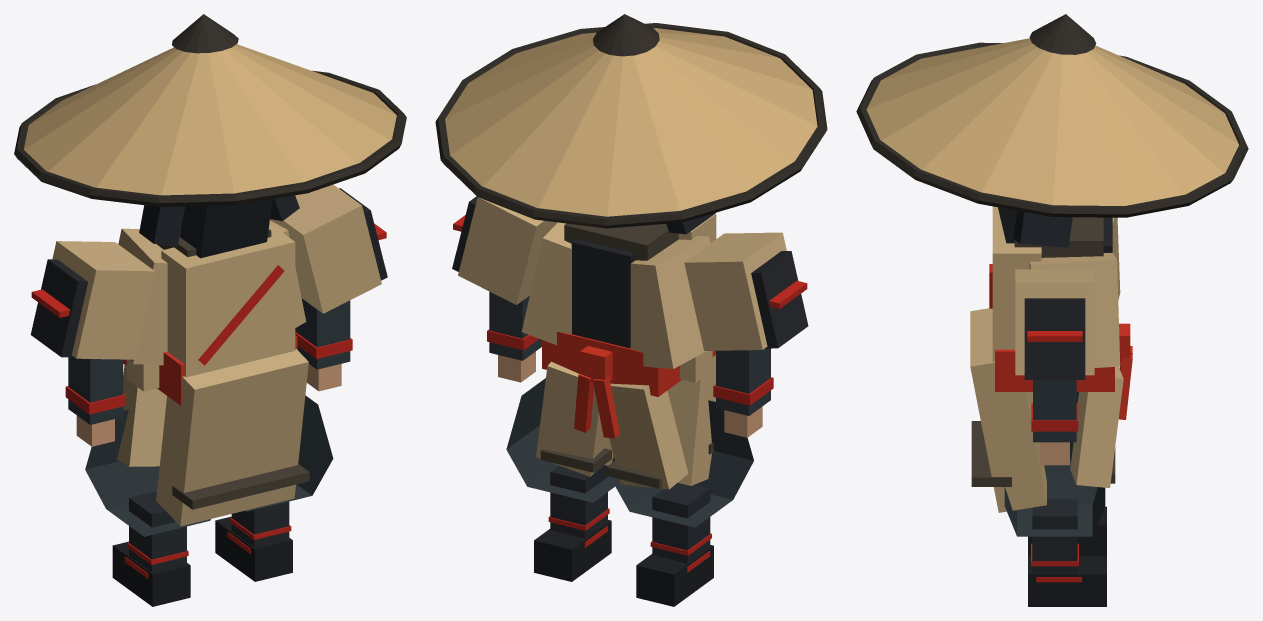
File: chibi_samurai.glb
3 renders of one model, left to right at view 1: azimuth 30°, elevation 25°; view 2: azimuth 150°, elevation 25°; view 3: azimuth 270°, elevation 25°, orthographic.
Parts seen in each view (by area): view 1: Kasa_Hat, Haori_Skirt_Back, Haori_Back, Sleeve_L, Sleeve_R, Hat_Rim_Ring, Hakama_R, HairBack, Haori_Lapel_R, Sode_Armor_R, Haori_Skirt_Front_R, Shin_R (+19 smaller); view 2: Kasa_Hat, Hat_Rim_Ring, Sleeve_R, Haori_Lapel_R, Sleeve_L, Haori_Skirt_Front_R, Chest_Dou, Hakama_R, Haori_Lapel_L, Haori_Skirt_Front_L, Haori_Skirt_Back, Hakama_L (+23 smaller); view 3: Kasa_Hat, Haori_Skirt_Back, Hat_Rim_Ring, Sode_Armor_L, Haori_Skirt_Front_L, Sleeve_L, Haori_Lapel_L, Haori_Back, Hakama_L, Boot_L, Shin_L, Kote_L (+10 smaller).
Part boxes in pixels (x1,y1,x2,y2): Kasa_Hat: [24, 44, 396, 195]; Haori_Skirt_Back: [156, 349, 308, 526]; Haori_Back: [161, 224, 295, 377]; Sleeve_L: [270, 184, 381, 313]; Sleeve_R: [52, 241, 154, 359]; Hat_Rim_Ring: [14, 70, 406, 206]; Hakama_R: [85, 409, 210, 536]; HairBack: [180, 199, 272, 258]; Haori_Lapel_R: [118, 228, 167, 365]; Sode_Armor_R: [30, 259, 87, 357]; Haori_Skirt_Front_R: [117, 365, 166, 466]; Shin_R: [129, 491, 186, 572]; Kasa_Hat: [445, 28, 817, 216]; Hat_Rim_Ring: [435, 23, 827, 228]; Sleeve_R: [684, 232, 786, 350]; Haori_Lapel_R: [630, 235, 710, 368]; Sleeve_L: [458, 197, 557, 304]; Haori_Skirt_Front_R: [609, 383, 688, 489]; Chest_Dou: [571, 239, 635, 348]; Hakama_R: [610, 400, 753, 527]; Haori_Lapel_L: [521, 222, 571, 345]; Haori_Skirt_Front_L: [536, 361, 607, 476]; Haori_Skirt_Back: [604, 355, 715, 485]; Hakama_L: [506, 378, 614, 502]; Kasa_Hat: [866, 38, 1238, 205]; Haori_Skirt_Back: [970, 308, 1046, 512]; Hat_Rim_Ring: [856, 42, 1248, 217]; Sode_Armor_L: [1024, 298, 1085, 379]; Haori_Skirt_Front_L: [1070, 366, 1123, 487]; Sleeve_L: [1015, 269, 1094, 375]; Haori_Lapel_L: [1029, 252, 1120, 367]; Haori_Back: [992, 206, 1041, 361]; Hakama_L: [1004, 442, 1105, 536]; Boot_L: [1028, 556, 1106, 606]; Shin_L: [1032, 499, 1077, 573]; Kote_L: [1033, 380, 1076, 442].
Bounding box in the file's own units: 0.9388 × 1.47 × 0.9337.
